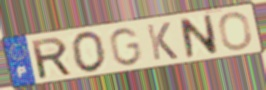G: (107, 26, 144, 68)
K: (144, 21, 180, 62)
N: (177, 13, 220, 60)
O: (70, 29, 108, 74), (217, 11, 254, 52)
R: (29, 35, 74, 81)
